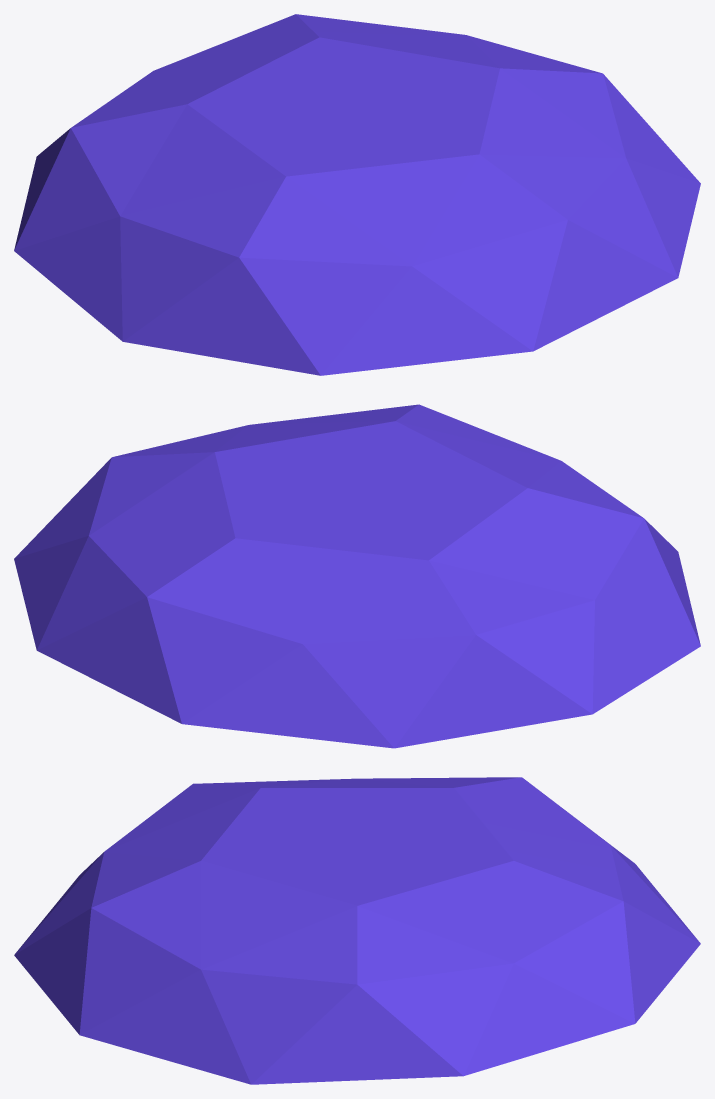
Rendered from bouncyShroom.fbx.
3 renders of one model, top to bottom at view 1: azimuth 30°, elevation 25°; view 2: azimuth 150°, elevation 25°; view 3: azimuth 270°, elevation 25°, orthographic. The views are drawn at different scales.
Parts seen in each view (by area): view 1: ParasolMushroomMatureVariantB; view 2: ParasolMushroomMatureVariantB; view 3: ParasolMushroomMatureVariantB.
Part boxes in pixels (bbox=[...]): ParasolMushroomMatureVariantB: bbox=[14, 14, 700, 375]; ParasolMushroomMatureVariantB: bbox=[14, 404, 700, 748]; ParasolMushroomMatureVariantB: bbox=[14, 777, 700, 1084].
Size of the model in its own units: 35.21 by 8.03 by 37.01.
